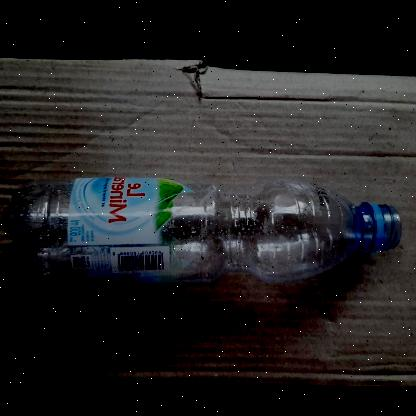Plastic Bottle: (6, 167, 404, 293)
